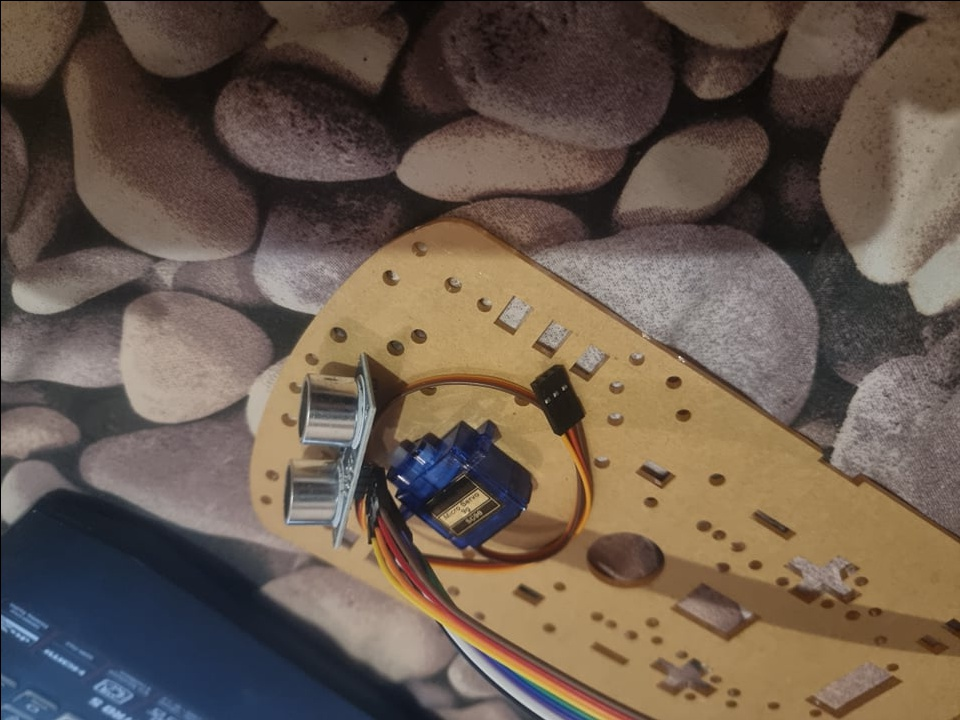SENSOR: (280, 357, 367, 549)
